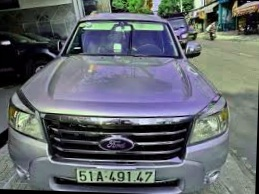Bien-so: (93, 160, 173, 183)
